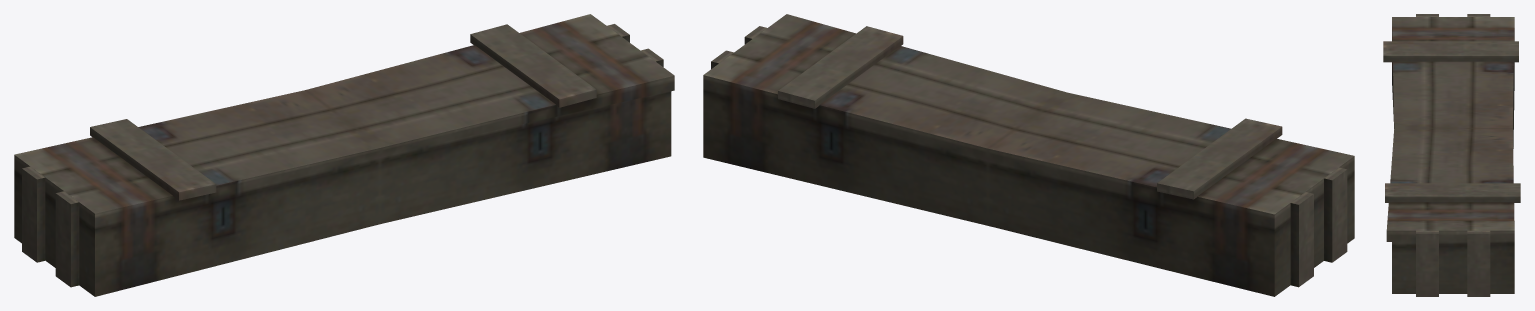
File: yw_gonghuilingdi_xiaowujian02.FBX
3 views of the same model, side by side, from view 1: azimuth 30°, elevation 25°; view 2: azimuth 150°, elevation 25°; view 3: azimuth 270°, elevation 25° (orthographic). The views are drawn at different scales.
Visible parts, largest first — view 1: yw_gonghuilingdi_xiaowujian02; view 2: yw_gonghuilingdi_xiaowujian02; view 3: yw_gonghuilingdi_xiaowujian02.
Boxes of the visible parts, box(x1,y1,x2,y2) form: yw_gonghuilingdi_xiaowujian02: box(14, 14, 674, 296); yw_gonghuilingdi_xiaowujian02: box(703, 14, 1354, 296); yw_gonghuilingdi_xiaowujian02: box(1383, 14, 1520, 296).
Bounding box in the file's own units: 288 × 41.5 × 75.84.
